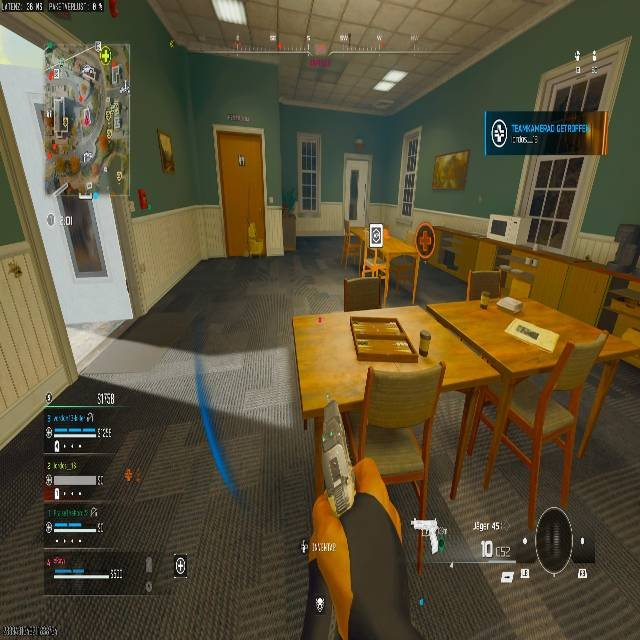player: (51, 154, 90, 252)
